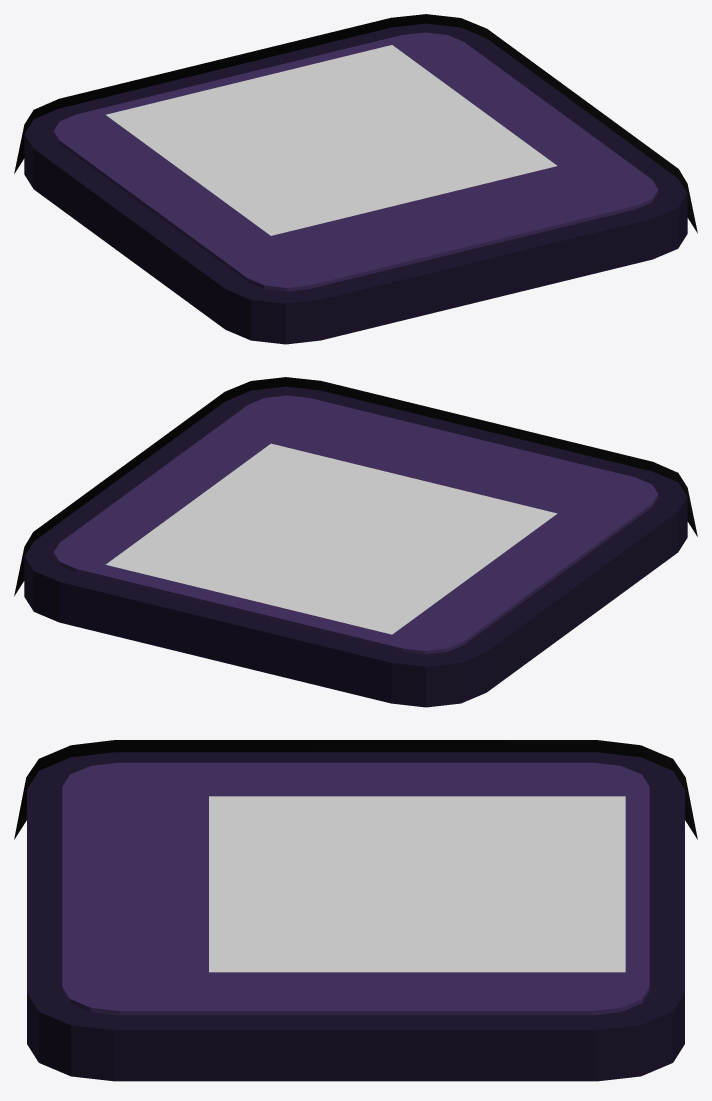
The model's file is BR_Feld_Finanzpolizei.glb.
3 renders of one model, top to bottom at view 1: azimuth 30°, elevation 25°; view 2: azimuth 150°, elevation 25°; view 3: azimuth 270°, elevation 25°, orthographic. The views are drawn at different scales.
Visible parts, largest first — view 1: BR_Feld_Finanzpolizei_Mesh, BR_Feld_Finanzpolizei_Outline; view 2: BR_Feld_Finanzpolizei_Mesh, BR_Feld_Finanzpolizei_Outline; view 3: BR_Feld_Finanzpolizei_Mesh, BR_Feld_Finanzpolizei_Outline.
Part boxes in pixels (x1=…): BR_Feld_Finanzpolizei_Mesh: x1=24, y1=23, x2=687, y2=344; BR_Feld_Finanzpolizei_Outline: x1=14, y1=14, x2=697, y2=233; BR_Feld_Finanzpolizei_Mesh: x1=24, y1=386, x2=687, y2=707; BR_Feld_Finanzpolizei_Outline: x1=14, y1=377, x2=697, y2=596; BR_Feld_Finanzpolizei_Mesh: x1=27, y1=752, x2=684, y2=1081; BR_Feld_Finanzpolizei_Outline: x1=14, y1=740, x2=697, y2=839.
Bounding box in the file's own units: 1.56 × 0.1588 × 1.56.
